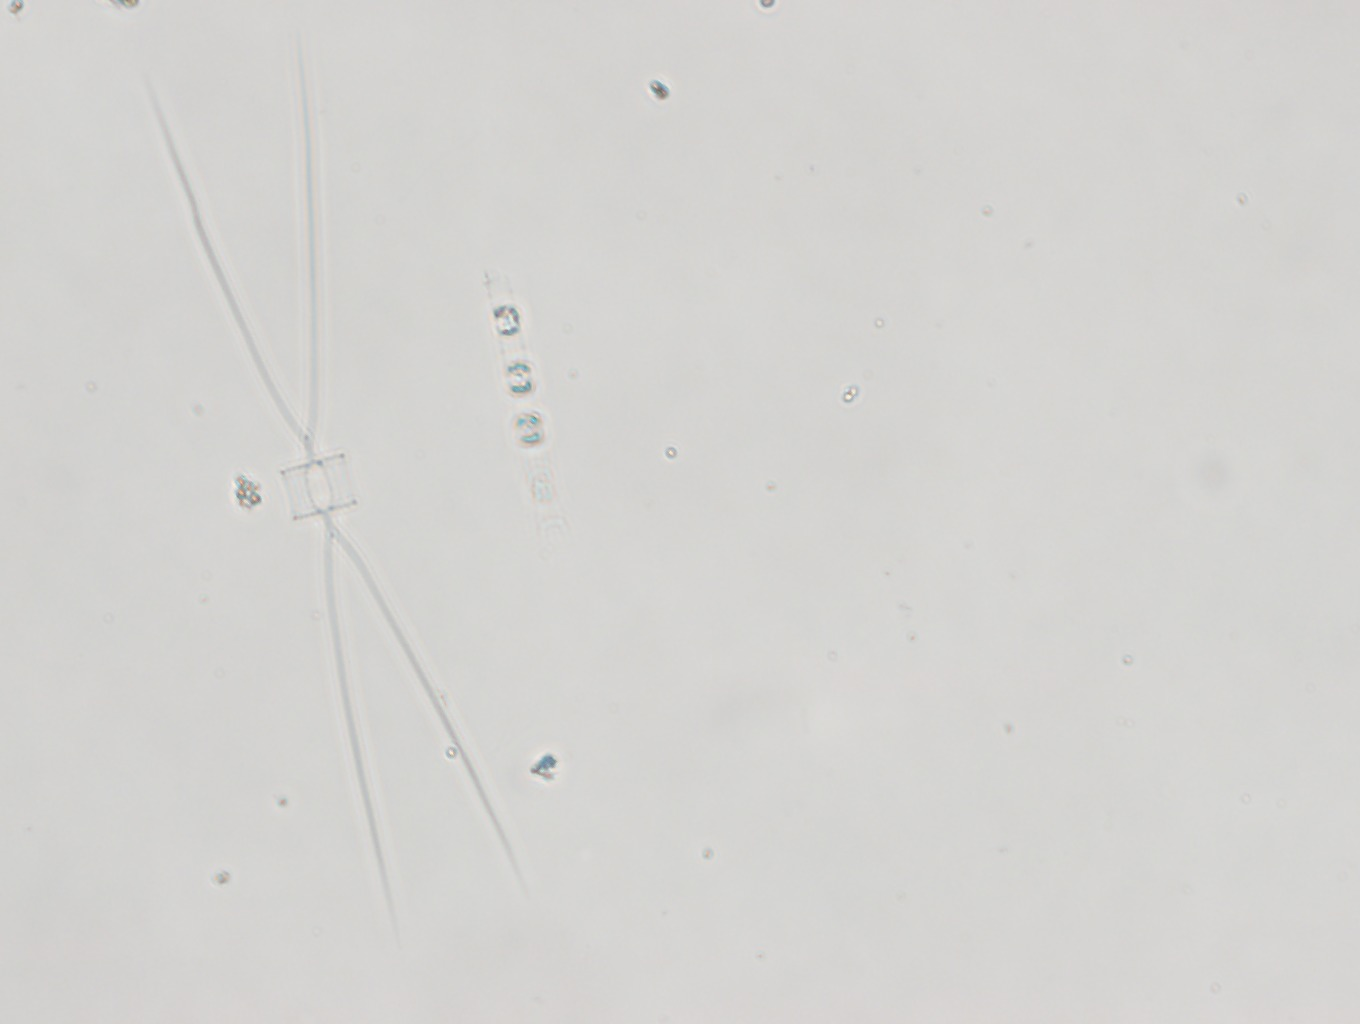chaetoceros: (139, 31, 529, 931)
skeletonema: (484, 268, 556, 509)
